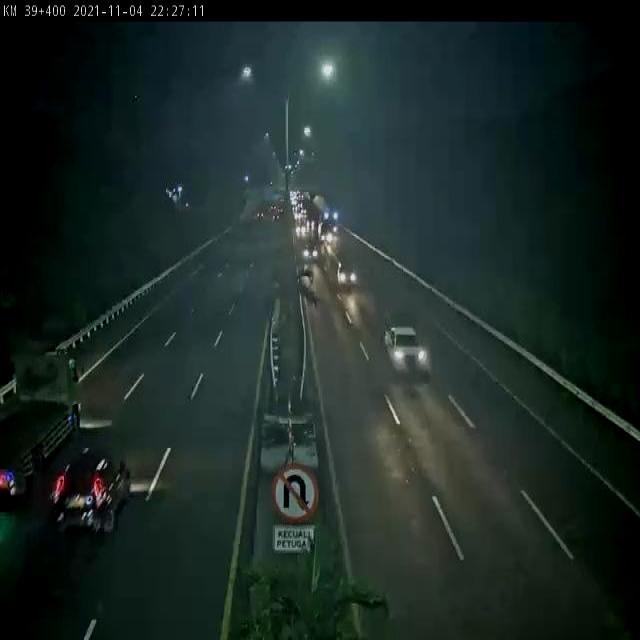Car: (50, 448, 132, 537), (336, 262, 358, 289), (303, 244, 318, 260)
Truck: (0, 347, 85, 510), (383, 307, 429, 373)
